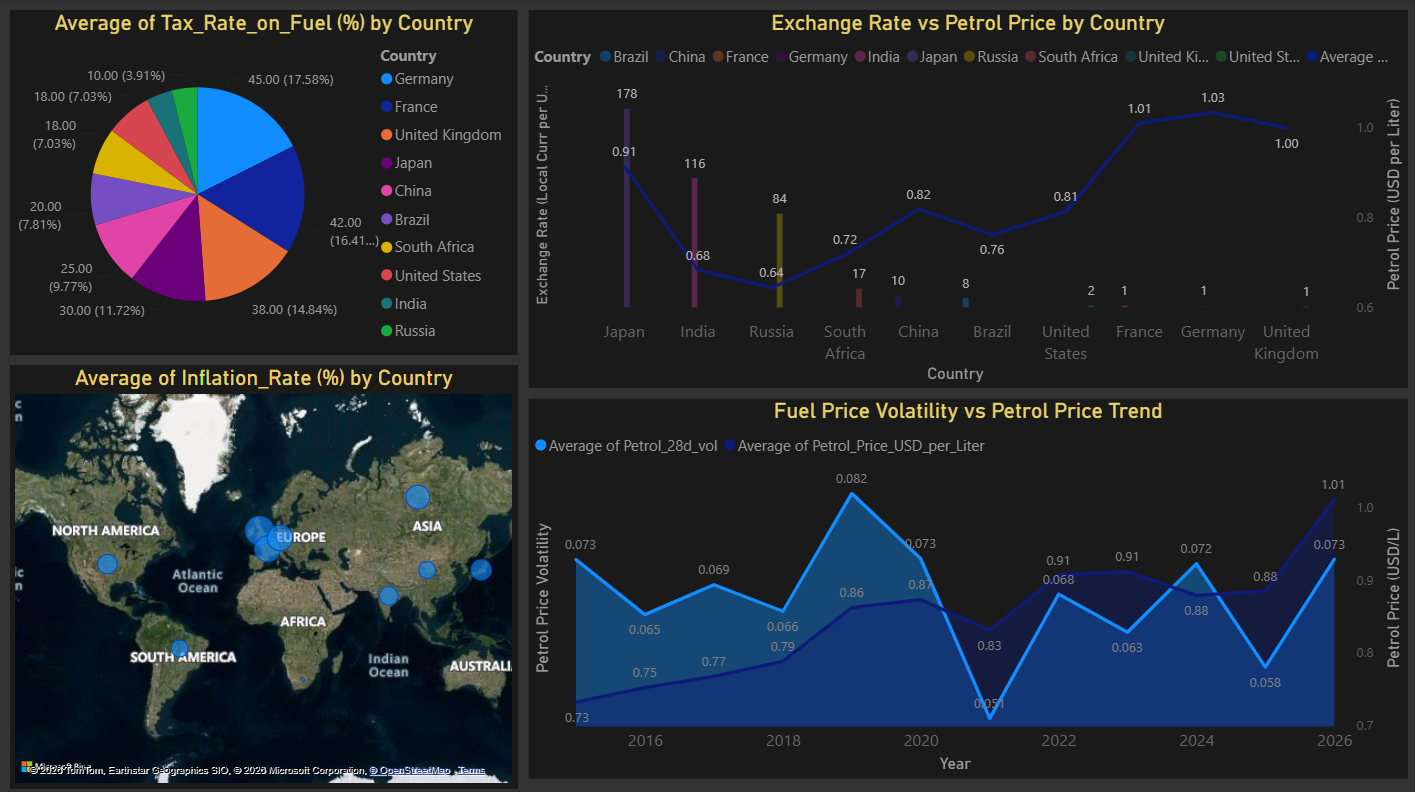

Layout of this report page (visuals, bound fields, positions):
{"tool":"powerbi","page":{"name":"Page 3","canvas":[1280,720],"ordinal":2},"visuals":[{"type":"pieChart","fields":{"Y":["Avg(price_metrics_table_v2.Tax_Rate_on_Fuel (%))"],"Category":["country_table_v2.Country"]},"box":[8.7,8.7,457.8,311],"z":0},{"type":"map","fields":{"Category":["country_table_v2.Country"],"Size":["Avg(price_metrics_table_v2.Inflation_Rate (%))"]},"box":[8.7,329.6,457.8,381.9],"z":1000},{"type":"lineClusteredColumnComboChart","title":"Exchange Rate vs Petrol Price by Country","fields":{"Category":["country_table_v2.Country"],"Series":["price_metrics_table_v2.Country"],"Y":["Avg(price_metrics_table_v2.Exchange_Rate_vs_USD)"],"Y2":["Avg(price_metrics_table_v2.Petrol_Price_USD_per_Liter)"]},"box":[476.4,8.7,792.4,340.8],"z":2000},{"type":"areaChart","title":"Fuel Price Volatility vs Petrol Price Trend","fields":{"Category":["Date.Date.Variation.Date Hierarchy.Year","Date.Date.Variation.Date Hierarchy.Quarter","Date.Date.Variation.Date Hierarchy.Month","Date.Date.Variation.Date Hierarchy.Day"],"Y":["Avg(price_metrics_table_v2.Petrol_28d_vol)"],"Y2":["Avg(price_metrics_table_v2.Petrol_Price_USD_per_Liter)"]},"box":[476.4,359.5,792.4,342.1],"z":3000}]}

Visuals, with their boxes in screenshot pixels (x1, y1, x2, y2), scaled from the page's 1280x720 canvas onto the 1415x792 screenshot:
pieChart - Avg(price_metrics_table_v2.Tax_Rate_on_Fuel (%)) x country_table_v2.Country: l=10, t=10, r=516, b=352
map - country_table_v2.Country x Avg(price_metrics_table_v2.Inflation_Rate (%)): l=10, t=363, r=516, b=783
"Exchange Rate vs Petrol Price by Country" lineClusteredColumnComboChart: l=527, t=10, r=1403, b=384
"Fuel Price Volatility vs Petrol Price Trend" areaChart: l=527, t=395, r=1403, b=772
